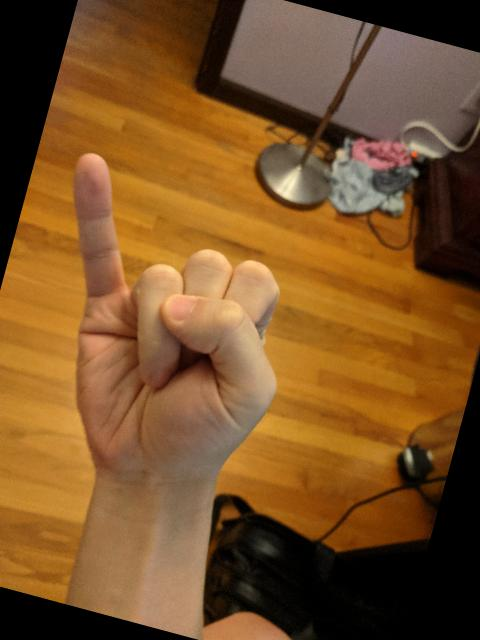I: (0, 144, 330, 523)
